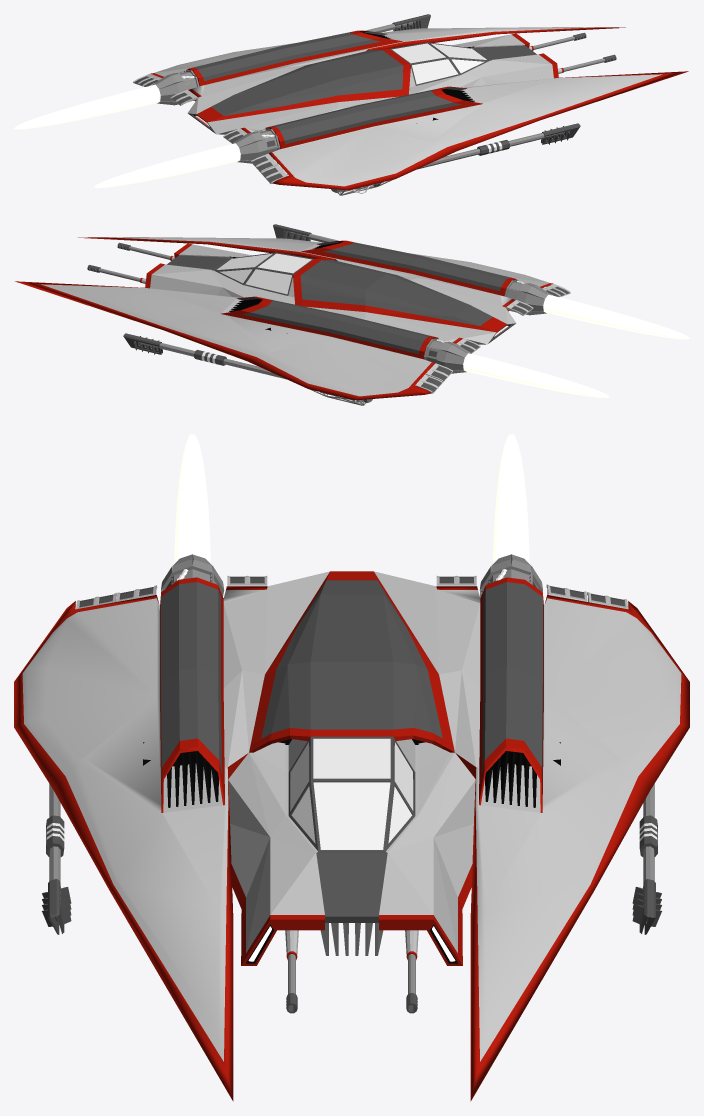
File: Kosmojet_3U.glb
3 views of the same model, one above another, from view 1: azimuth 30°, elevation 25°; view 2: azimuth 150°, elevation 25°; view 3: azimuth 270°, elevation 25° (orthographic). The views are drawn at different scales.
Visible parts, largest first — view 1: Left Wing.001, Hull, Left Wing, Canopy, Left Exhaust, Right Exhaust.004, Left Jet Exhaust.001, Left Jet Exhaust, L Barrel.001, Front Canons, L Muzzle.001, L Muzzle (+4 smaller); view 2: Left Wing, Hull, Left Wing.001, Canopy, Right Exhaust.004, Left Exhaust, Left Jet Exhaust, Left Jet Exhaust.001, L Barrel, Front Canons, L Muzzle, L Muzzle.001 (+4 smaller); view 3: Hull, Left Wing, Left Wing.001, Canopy, Left Exhaust, Right Exhaust.004, Left Jet Intake Grid, Left Jet Intake Grid.001, Front Canons, L Muzzle, L Muzzle.001, Left Jet Exhaust (+2 smaller).
Boxes of the visible parts, x1,y1,x2,y2 form: Left Wing.001: (241,71,688,190); Hull: (187,33,558,134); Left Wing: (150,27,625,101); Canopy: (390,42,489,85); Left Exhaust: (14,84,160,129); Right Exhaust.004: (94,143,240,187); Left Jet Exhaust.001: (232,128,279,163); Left Jet Exhaust: (152,70,199,105); L Barrel.001: (417,132,564,169); Front Canons: (529,32,616,73); L Muzzle.001: (541,123,580,144); L Muzzle: (392,14,430,31); Left Wing: (15,281,462,400); Hull: (145,243,516,344); Left Wing.001: (78,237,569,311); Canopy: (214,252,313,295); Right Exhaust.004: (543,294,689,339); Left Exhaust: (463,353,609,397); Left Jet Exhaust: (424,339,471,373); Left Jet Exhaust.001: (504,280,551,315); L Barrel: (139,342,286,379); Front Canons: (87,242,174,283); L Muzzle: (123,333,162,354); L Muzzle.001: (273,224,311,241); Hull: (227,571,476,965); Left Wing: (436,577,689,1101); Left Wing.001: (14,577,267,1101); Canopy: (288,736,415,851); Left Exhaust: (493,434,529,563); Right Exhaust.004: (174,434,210,563); Left Jet Intake Grid: (481,751,540,812); Left Jet Intake Grid.001: (163,751,222,812); Front Canons: (285,930,418,1013); L Muzzle: (632,879,661,934); L Muzzle.001: (42,879,71,934); Left Jet Exhaust: (479,554,542,597).
Size of the model in its own units: 33.23 by 3.09 by 16.12.
